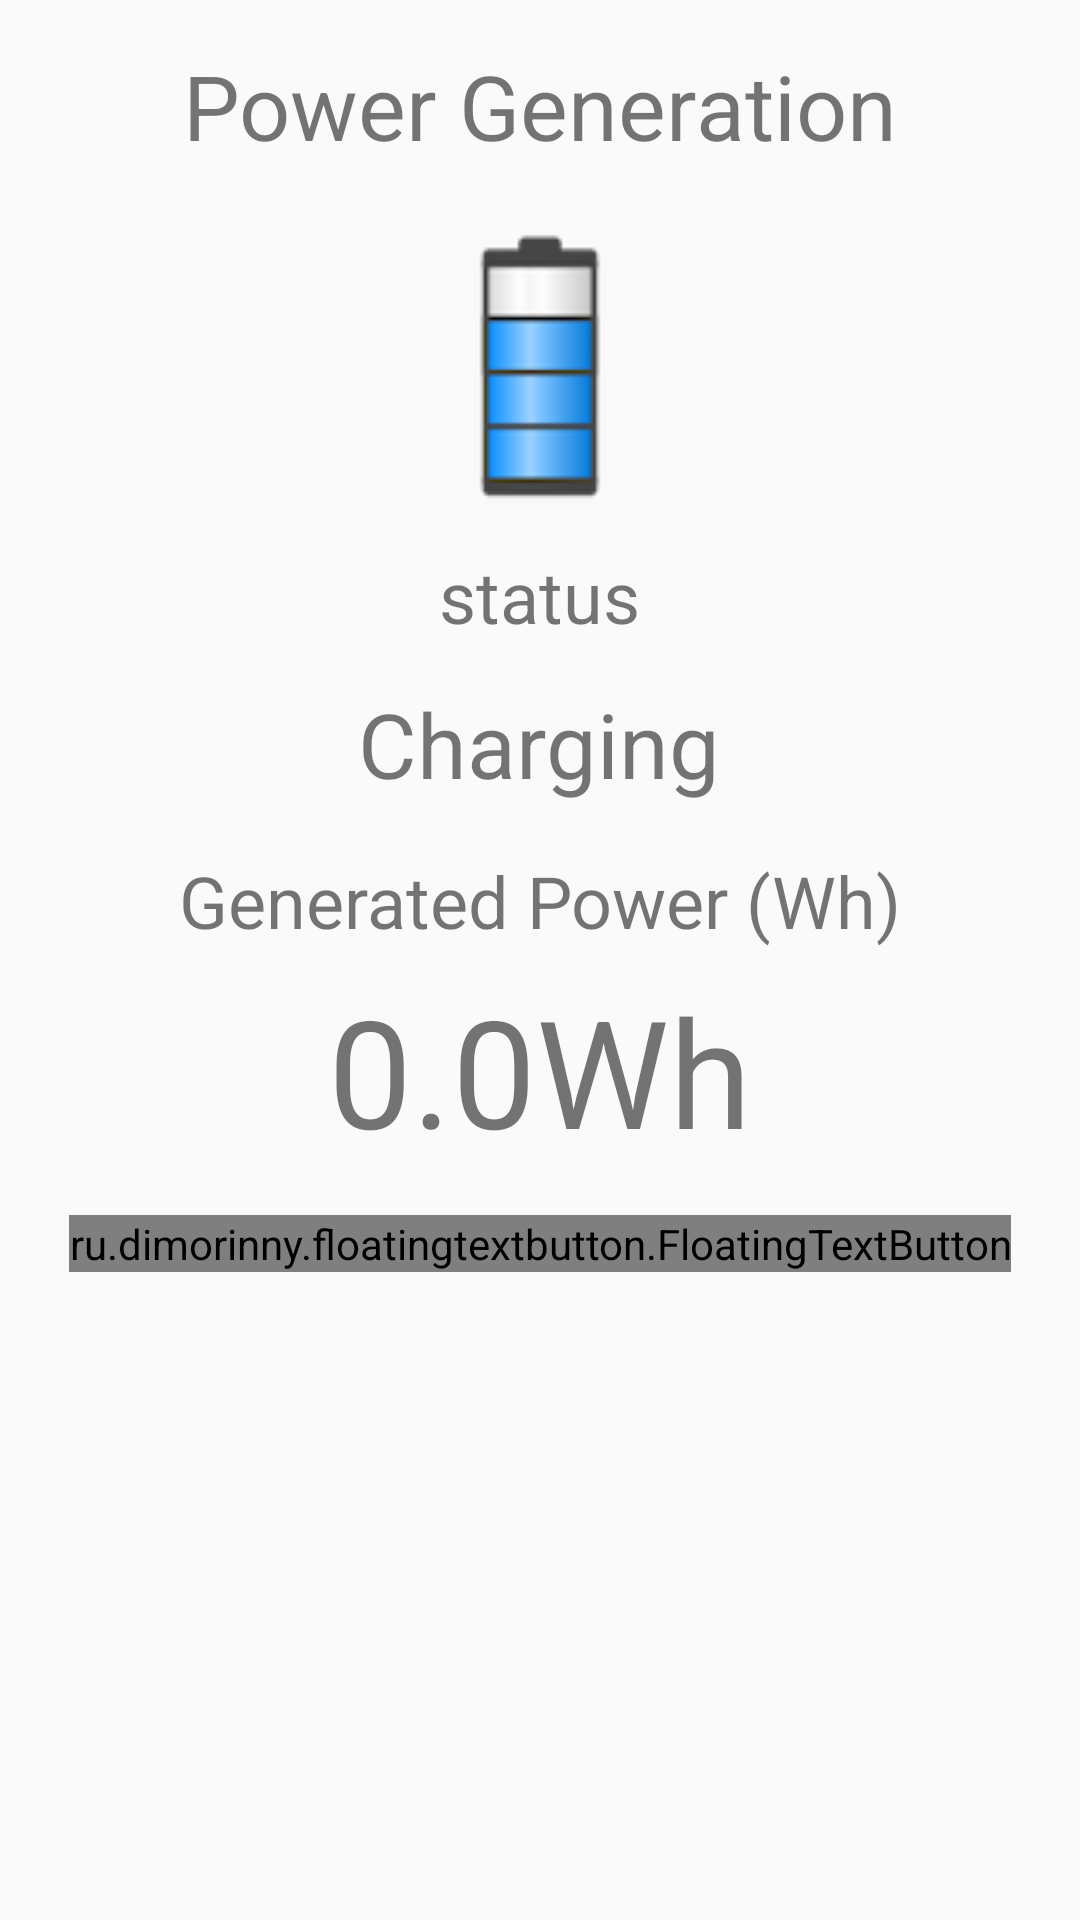

Screen size 1080*1920. Icon name, then its box in pixels as (x1, y1, x2, y2):
battery: (480, 235, 600, 498)
